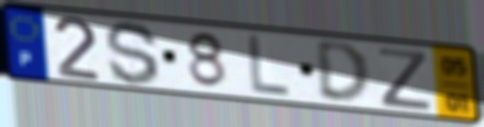2: (53, 15, 101, 83)
8: (185, 30, 230, 91)
D: (312, 40, 374, 107)
L: (245, 32, 292, 100)
S: (103, 19, 163, 88)
Z: (376, 45, 433, 113)
